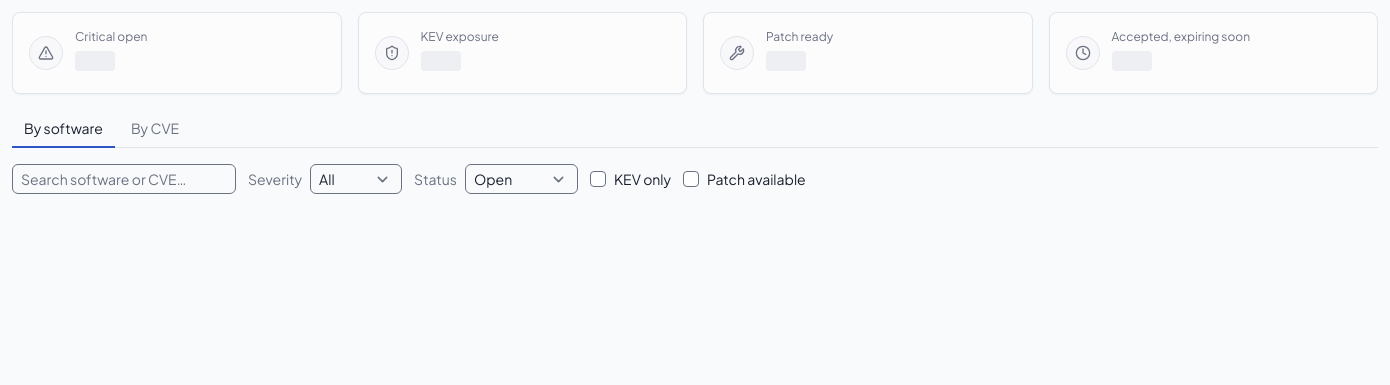
Test case: VulnerabilityFleetPage › surfaces the invisible expiring-soon window as a clearable filter chip
The width and height of the screenshot is (1390, 385).
Click the button with test id "vuln-stat-accepted-expiring": [1213, 53] box [1048,12,1378,94]
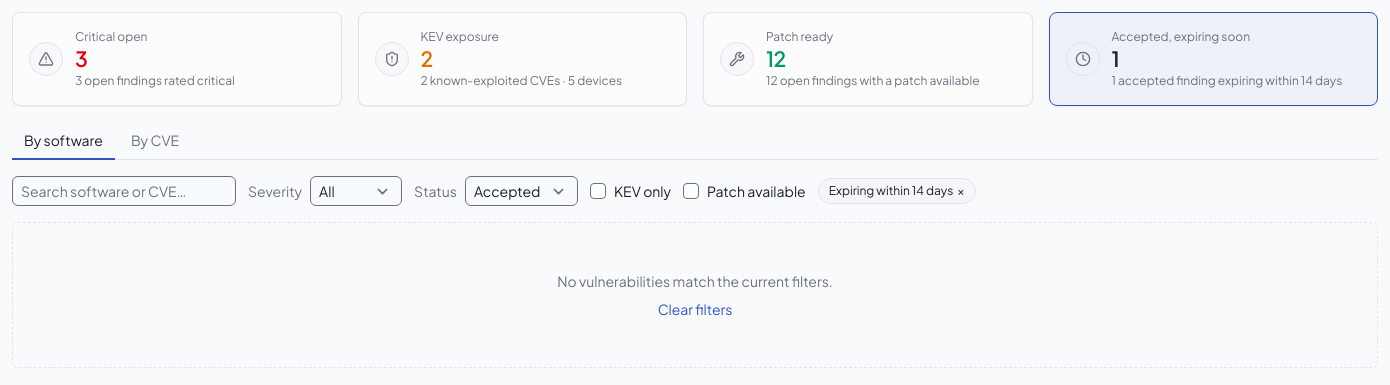
Expected: the button with test id "vuln-filter-expiring-clear" shows "Expiring within 14 days"
Click the button with test id "vuln-filter-expiring-clear": [897, 191] box [818,178,976,204]
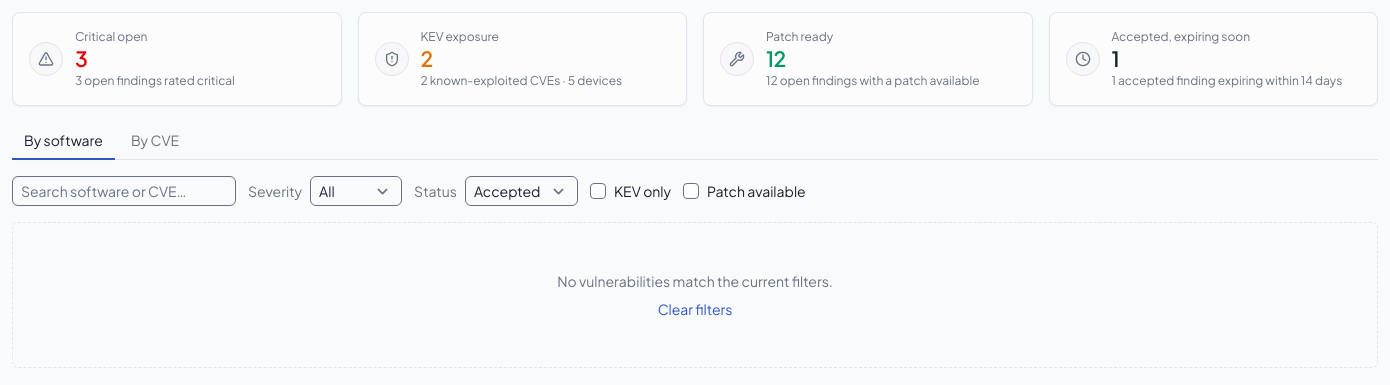
Expected: the button with test id "vuln-filter-expiring-clear" is gone
